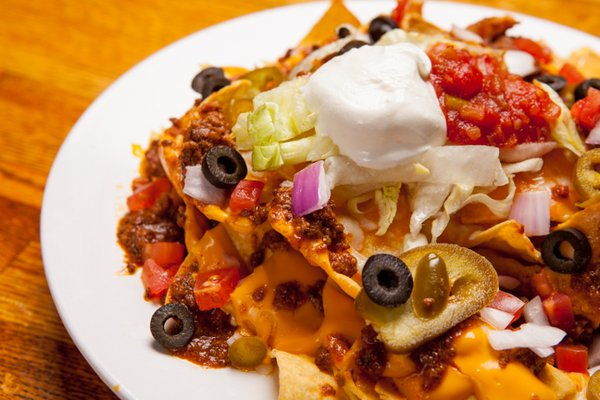curry: (3, 0, 596, 399)
pizza: (150, 241, 185, 268)
